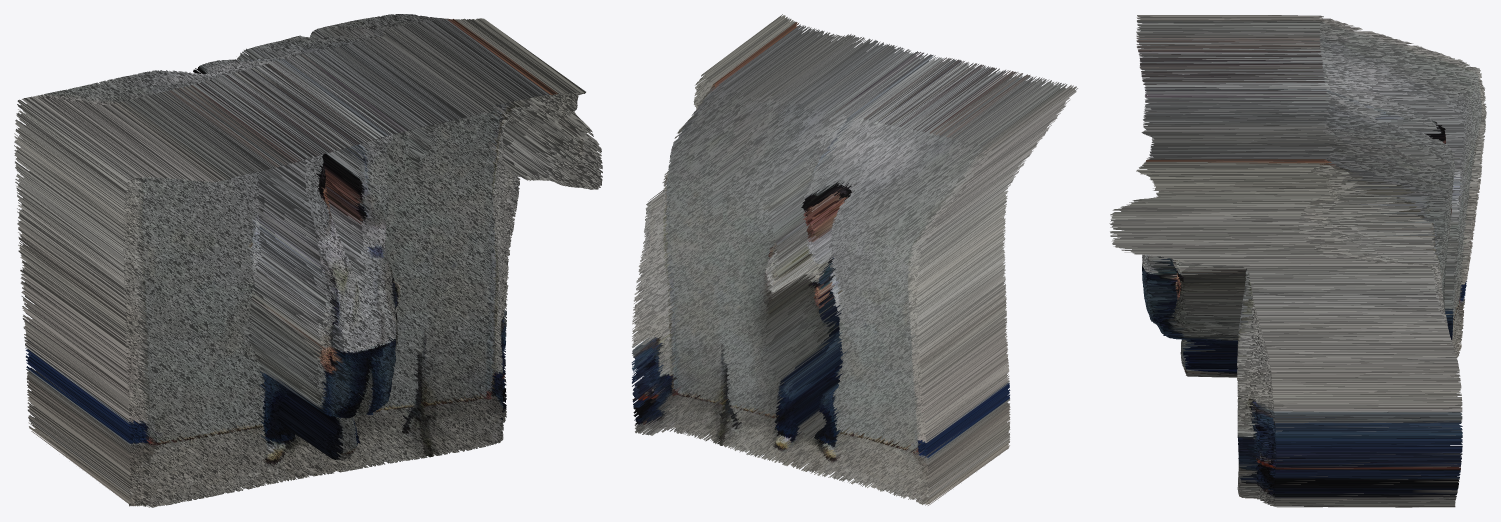
The model's file is final_result.glb.
The picture shows the model from 3 angles, left to right: view 1: azimuth 30°, elevation 25°; view 2: azimuth 150°, elevation 25°; view 3: azimuth 270°, elevation 25°; orthographic projection. The views are drawn at different scales.
Parts seen in each view (by area): view 1: mesh_raw.obj; view 2: mesh_raw.obj; view 3: mesh_raw.obj.
Boxes of the visible parts, bbox=[...] form: mesh_raw.obj: bbox=[14, 14, 602, 507]; mesh_raw.obj: bbox=[631, 14, 1077, 505]; mesh_raw.obj: bbox=[1109, 15, 1486, 507].
Size of the model in its own units: 2 by 2 by 2.04.
Materials: 1 (1 with a texture image).
